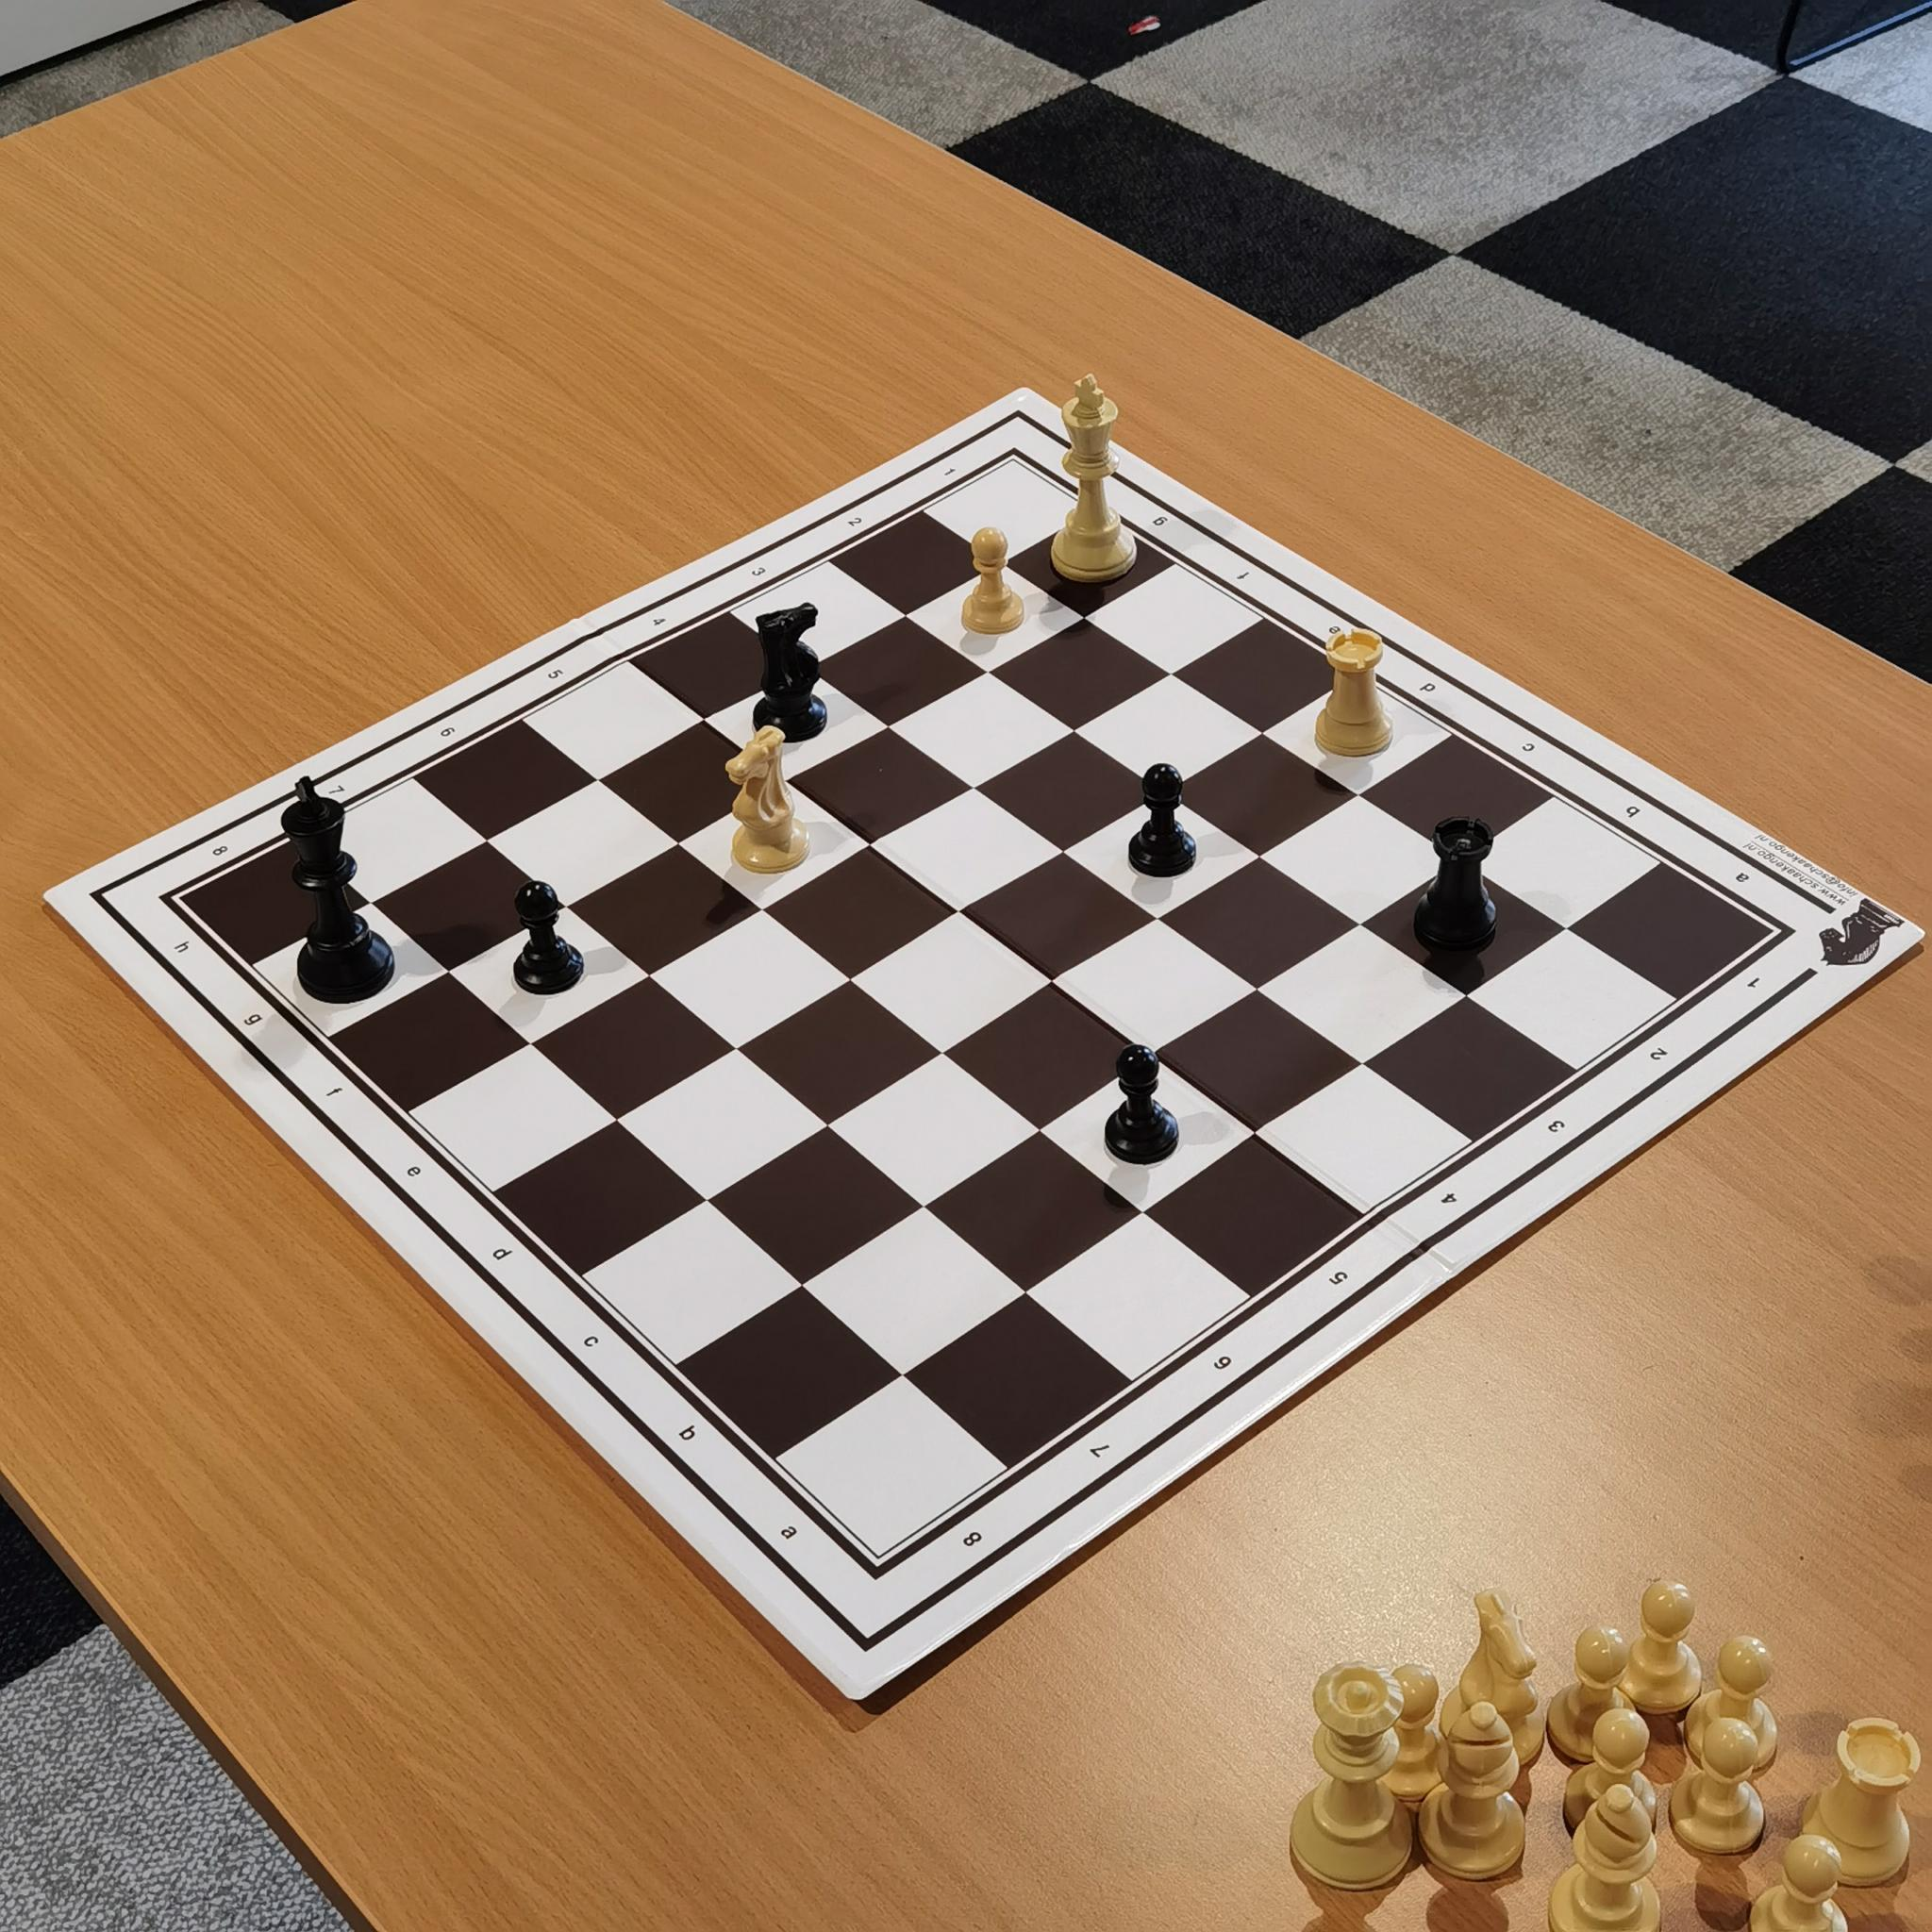corners: (847, 1536, 909, 1599), (1752, 909, 1813, 955), (150, 874, 212, 916), (987, 439, 1035, 478)
eight: (945, 1513, 994, 1562), (196, 828, 242, 872)
one: (1732, 962, 1778, 998), (932, 453, 970, 485)
